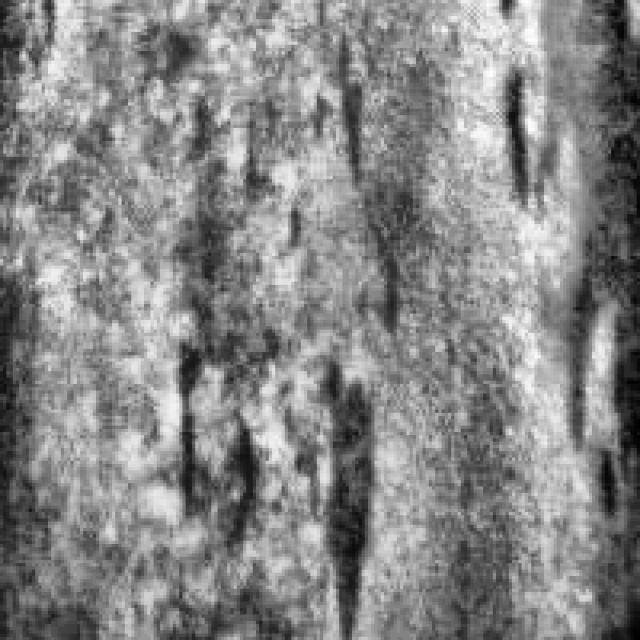Patches: (495, 0, 630, 518), (160, 170, 282, 564), (291, 346, 378, 620), (304, 29, 371, 182), (355, 237, 400, 336)
